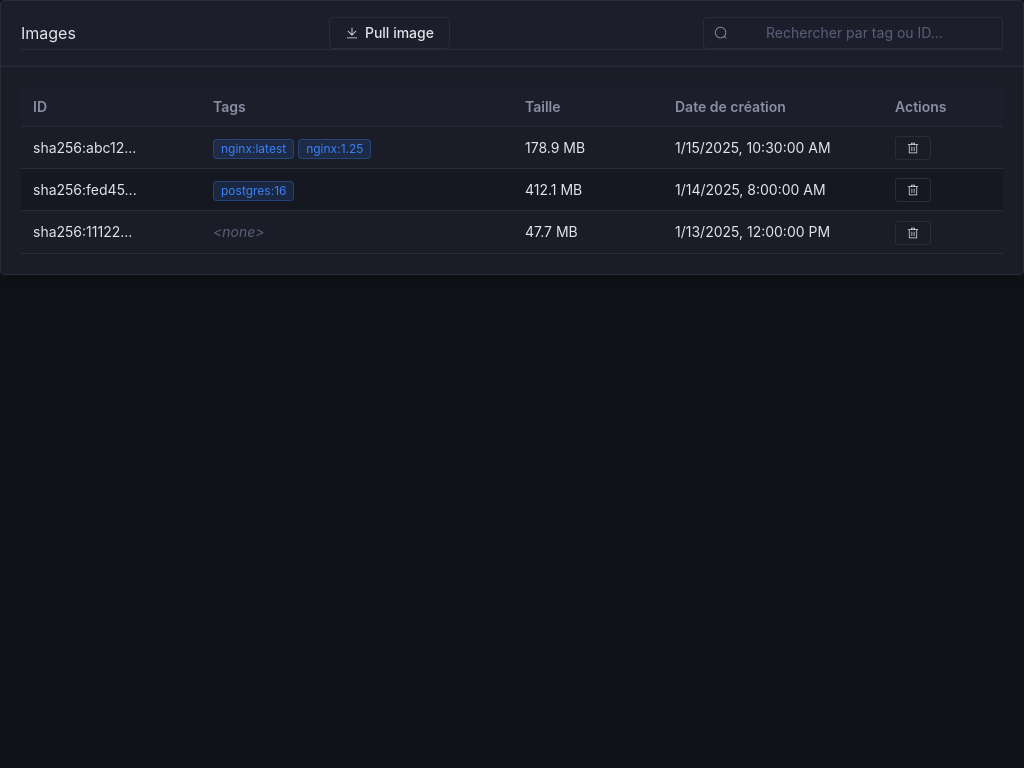
Test: Images.vue › opens pull dialog when Pull image button is clicked
The width and height of the screenshot is (1024, 768).
Click the button "Pull image". click: (389, 33)
box: [329,17,450,49]
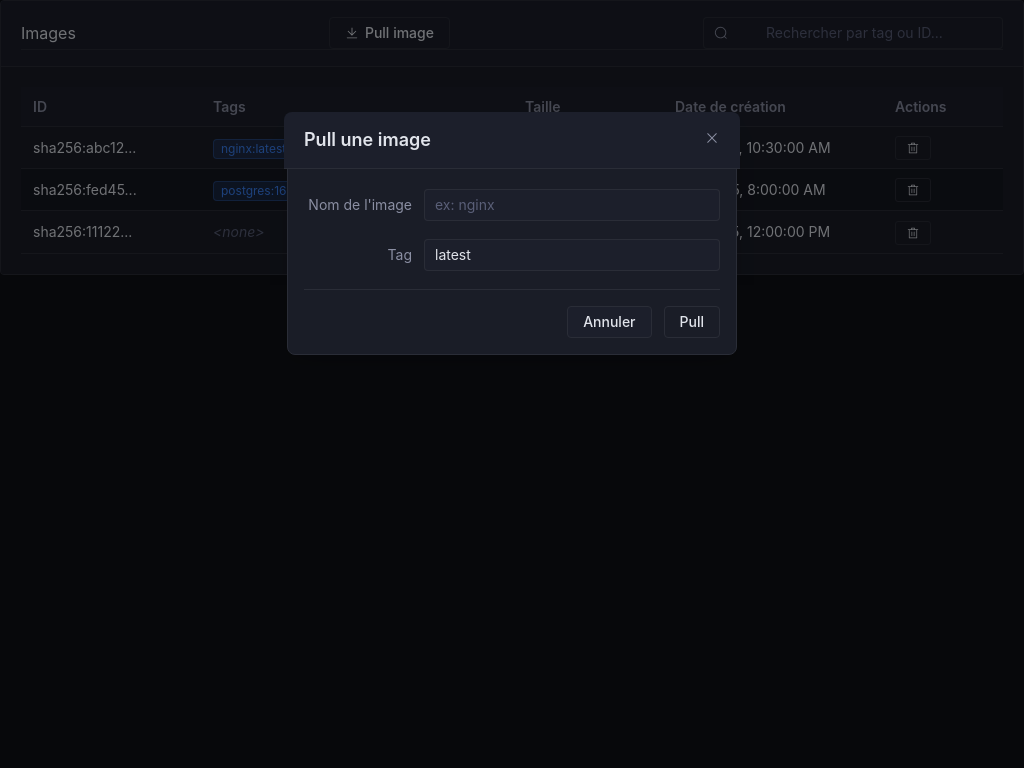
Expected: the element showing "Pull une image Nom de l'image Tag Annuler Pull" is shown, [287,115,737,355]
Expected: the text "Pull une image" is shown, [304,129,431,150]
